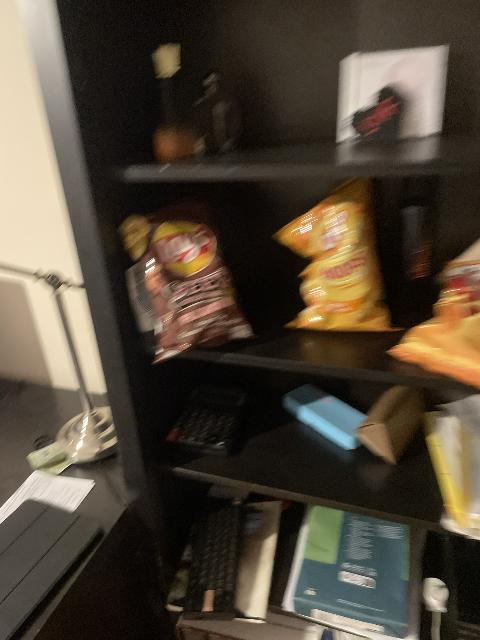Chio Cascaval 125g: (383, 254, 480, 395)
Chio Hula Hoops Cheese 70g: (270, 176, 393, 331)
Lays Beef Grilled Ribs 125g: (122, 207, 258, 362)
